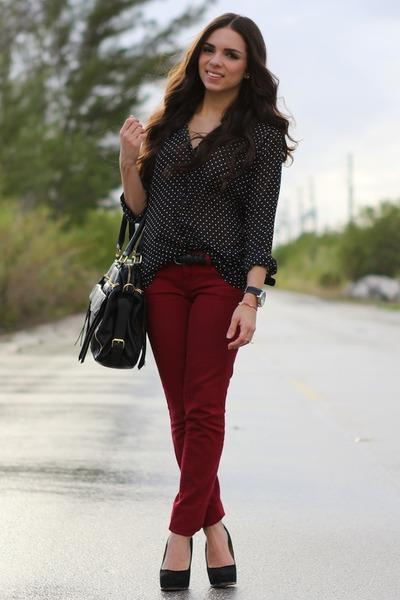bag: (75, 234, 155, 368)
pants: (144, 263, 244, 539)
shirt: (119, 121, 294, 289)
shoe: (160, 564, 236, 596)
